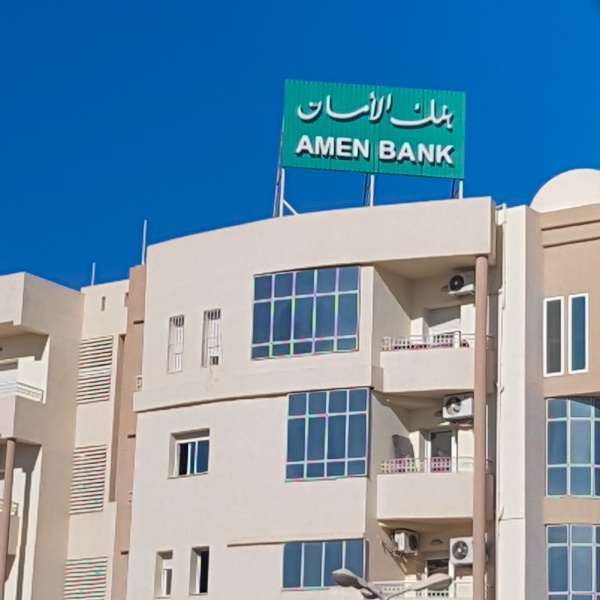text: (401, 97, 416, 134), (417, 97, 432, 134), (433, 97, 448, 134), (305, 89, 320, 124), (321, 89, 336, 124), (337, 89, 352, 124), (353, 89, 368, 124), (369, 89, 384, 124), (385, 89, 399, 124), (385, 139, 400, 169), (401, 139, 416, 169), (417, 139, 432, 169), (433, 139, 448, 169), (305, 133, 320, 160), (321, 133, 336, 160), (337, 133, 352, 160), (353, 133, 368, 160), (391, 97, 400, 134), (449, 97, 457, 134), (294, 133, 304, 160), (297, 89, 304, 124), (449, 139, 456, 169), (379, 139, 384, 169), (369, 133, 372, 160)
